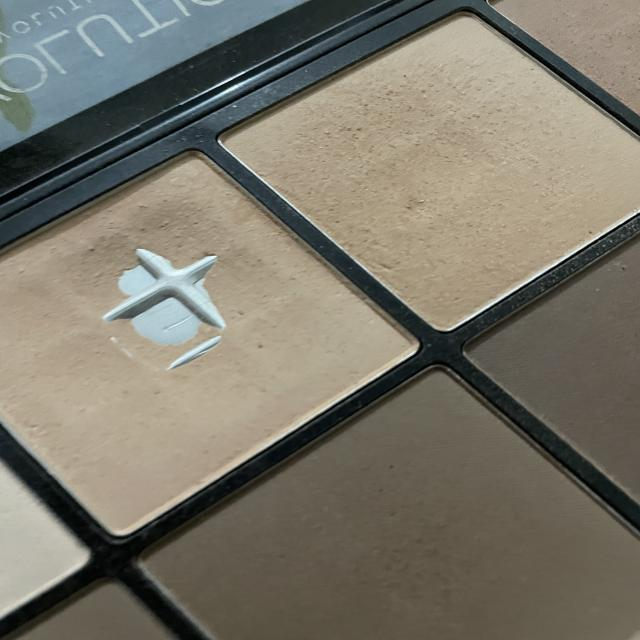bronzer: (0, 143, 432, 545), (210, 0, 640, 335), (136, 361, 640, 640), (453, 217, 640, 508)
